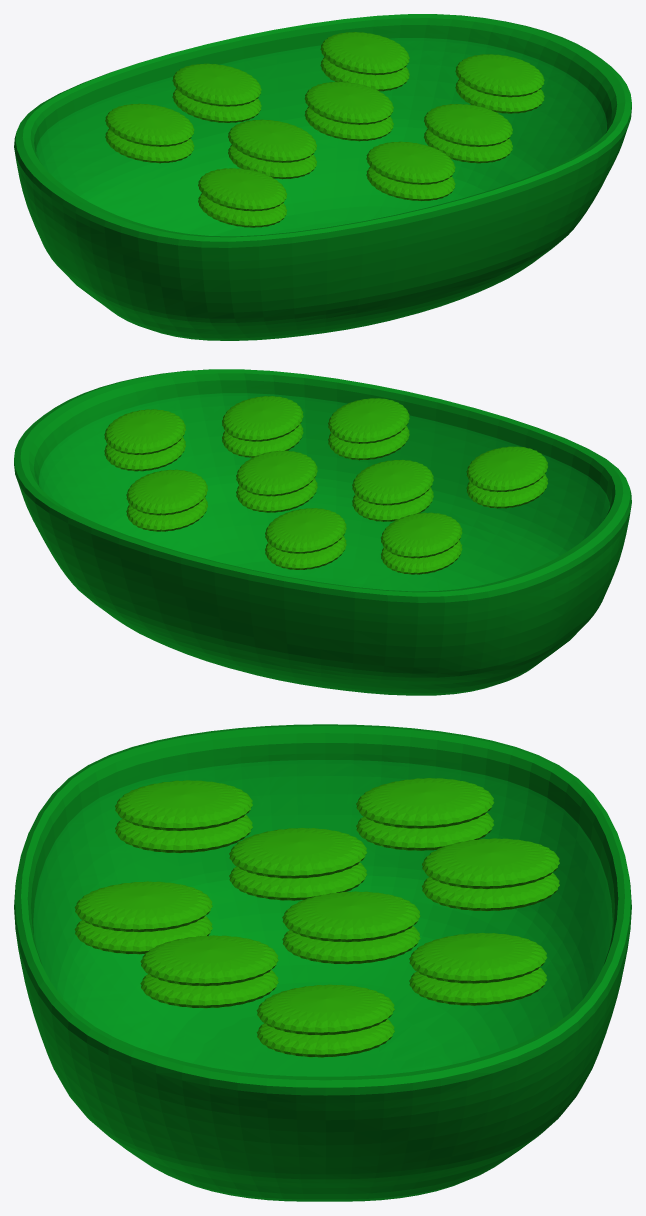
Rendered from clorox.dae.
3 views of the same model, one above another, from view 1: azimuth 30°, elevation 25°; view 2: azimuth 150°, elevation 25°; view 3: azimuth 270°, elevation 25° (orthographic). The views are drawn at different scales.
Parts seen in each view (by area): view 1: Cylinder; view 2: Cylinder; view 3: Cylinder.
Part boxes in pixels (left/top/right/bottom): Cylinder: left=14, top=14, right=631, bottom=340; Cylinder: left=14, top=369, right=631, bottom=695; Cylinder: left=14, top=724, right=631, bottom=1201.
Bounding box in the file's own units: 0.8245 × 0.5931 × 0.242.
